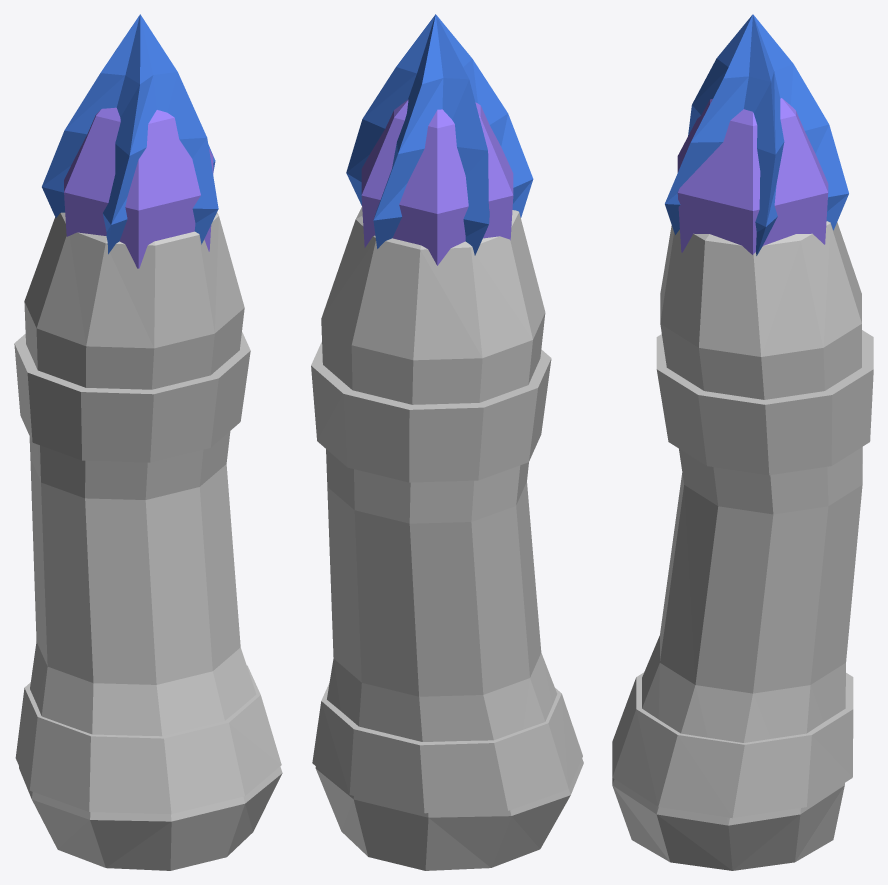
The model's file is fungus_darktorch.obj.
The picture shows the model from 3 angles, left to right: view 1: azimuth 30°, elevation 25°; view 2: azimuth 150°, elevation 25°; view 3: azimuth 270°, elevation 25°; orthographic projection.
Visible parts, largest first — view 1: fungus_darktorch, fungus_darktorch_flame_0, fungus_darktorch_flame_1; view 2: fungus_darktorch, fungus_darktorch_flame_0, fungus_darktorch_flame_1; view 3: fungus_darktorch, fungus_darktorch_flame_0, fungus_darktorch_flame_1.
Boxes of the visible parts, left/top/right/bottom form: fungus_darktorch: left=14, top=212, right=282, bottom=870; fungus_darktorch_flame_0: left=42, top=14, right=218, bottom=254; fungus_darktorch_flame_1: left=64, top=107, right=213, bottom=268; fungus_darktorch: left=311, top=206, right=583, bottom=870; fungus_darktorch_flame_0: left=346, top=14, right=533, bottom=255; fungus_darktorch_flame_1: left=361, top=99, right=513, bottom=265; fungus_darktorch: left=612, top=221, right=873, bottom=870; fungus_darktorch_flame_0: left=665, top=14, right=848, bottom=255; fungus_darktorch_flame_1: left=677, top=98, right=828, bottom=254.
Bounding box in the file's own units: 0.34 × 1.1 × 0.3208.
